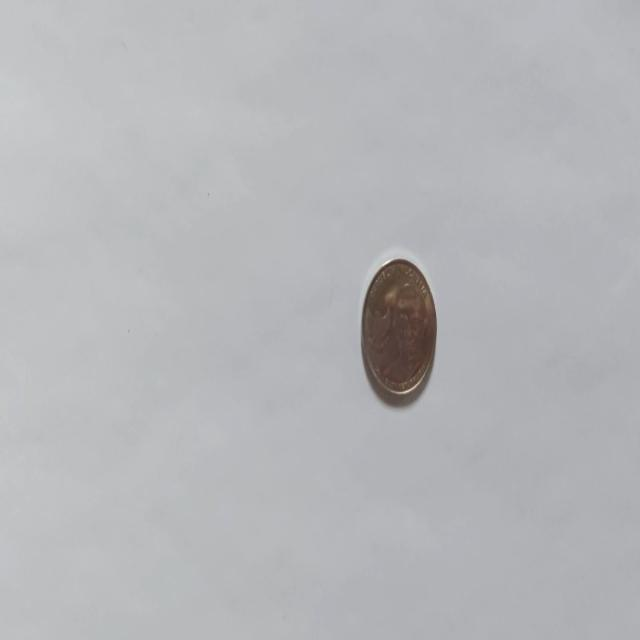seribu rupiah koin: (360, 254, 438, 402)
